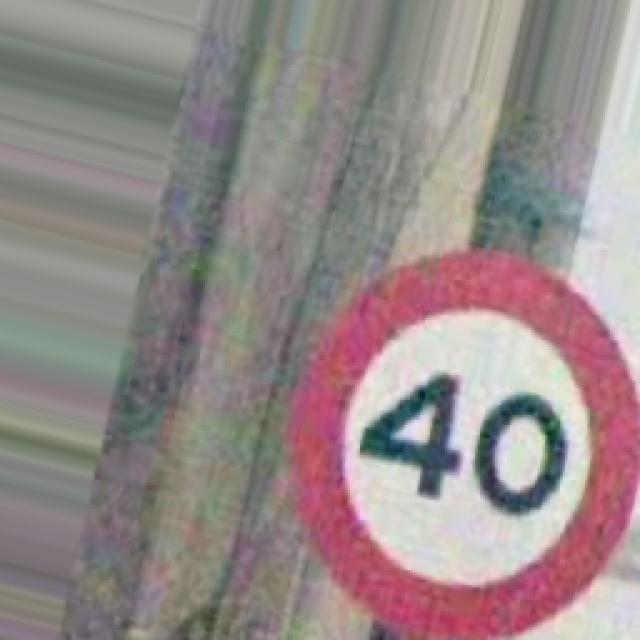Speed Limit -40-: (290, 250, 638, 638)
